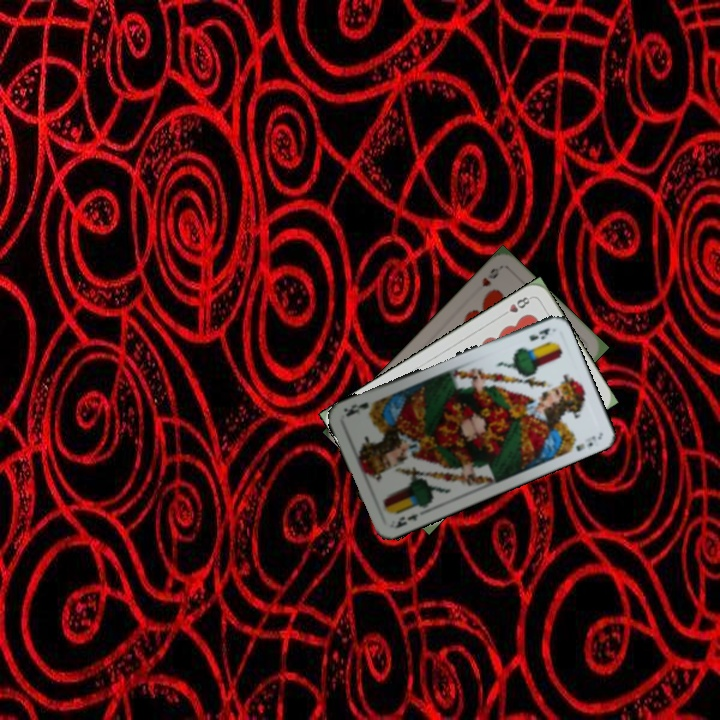EK: (389, 510, 421, 531), (525, 324, 553, 343)
H8: (498, 293, 534, 319)
H9: (478, 264, 502, 290)
